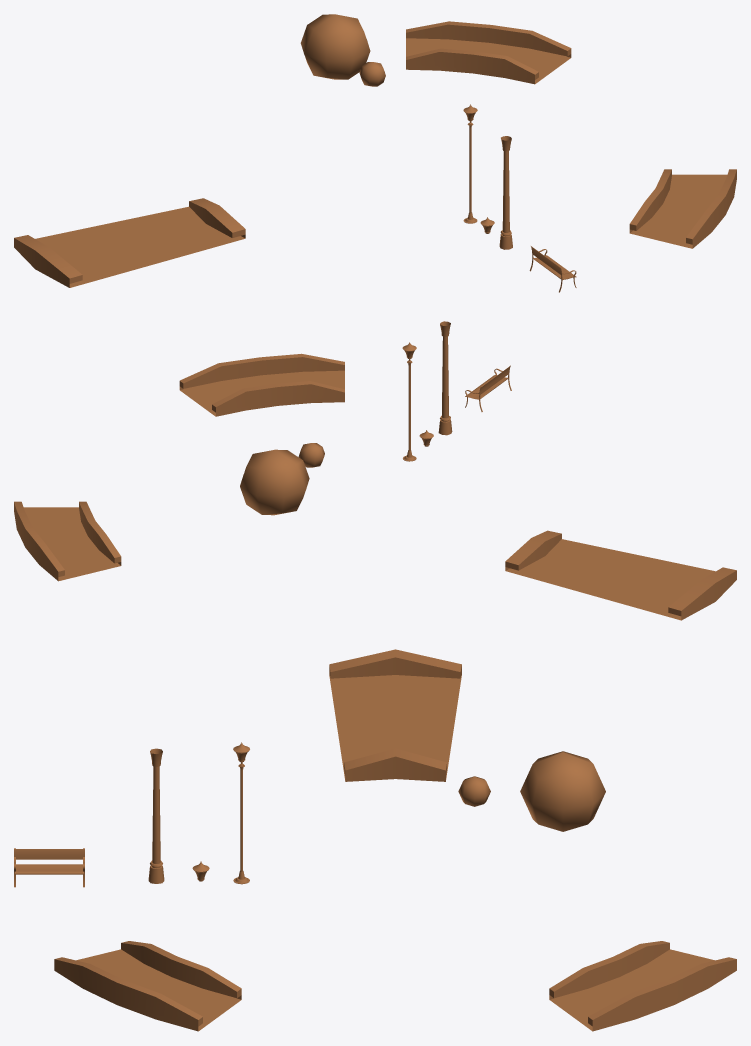
File: Fountain Doodads.fbx
3 views of the same model, one above another, from view 1: azimuth 30°, elevation 25°; view 2: azimuth 150°, elevation 25°; view 3: azimuth 270°, elevation 25° (orthographic). The views are drawn at different scales.
Visible parts, largest first — view 1: Small_Bridges, Outer_Glow, Column, Bench, Inner_Glow, Street_Light; view 2: Small_Bridges, Outer_Glow, Column, Bench, Street_Light, Inner_Glow; view 3: Small_Bridges, Outer_Glow, Bench, Column, Inner_Glow, Street_Light.
Boxes of the visible parts, bbox=[...] form: Small_Bridges: bbox=[14, 21, 736, 287]; Outer_Glow: bbox=[300, 14, 370, 79]; Column: bbox=[499, 136, 512, 249]; Bench: bbox=[529, 246, 576, 292]; Inner_Glow: bbox=[359, 62, 385, 86]; Street_Light: bbox=[463, 104, 477, 223]; Small_Bridges: bbox=[14, 353, 736, 620]; Outer_Glow: bbox=[240, 449, 309, 515]; Column: bbox=[438, 321, 452, 435]; Bench: bbox=[465, 365, 511, 411]; Street_Light: bbox=[402, 342, 416, 461]; Inner_Glow: bbox=[298, 443, 324, 467]; Small_Bridges: bbox=[54, 649, 736, 1031]; Outer_Glow: bbox=[520, 751, 605, 831]; Bench: bbox=[14, 848, 84, 887]; Column: bbox=[148, 748, 164, 883]; Inner_Glow: bbox=[458, 776, 490, 806]; Street_Light: bbox=[233, 742, 249, 884].
Bounding box in the file's own units: 1604 × 302 × 1363.
